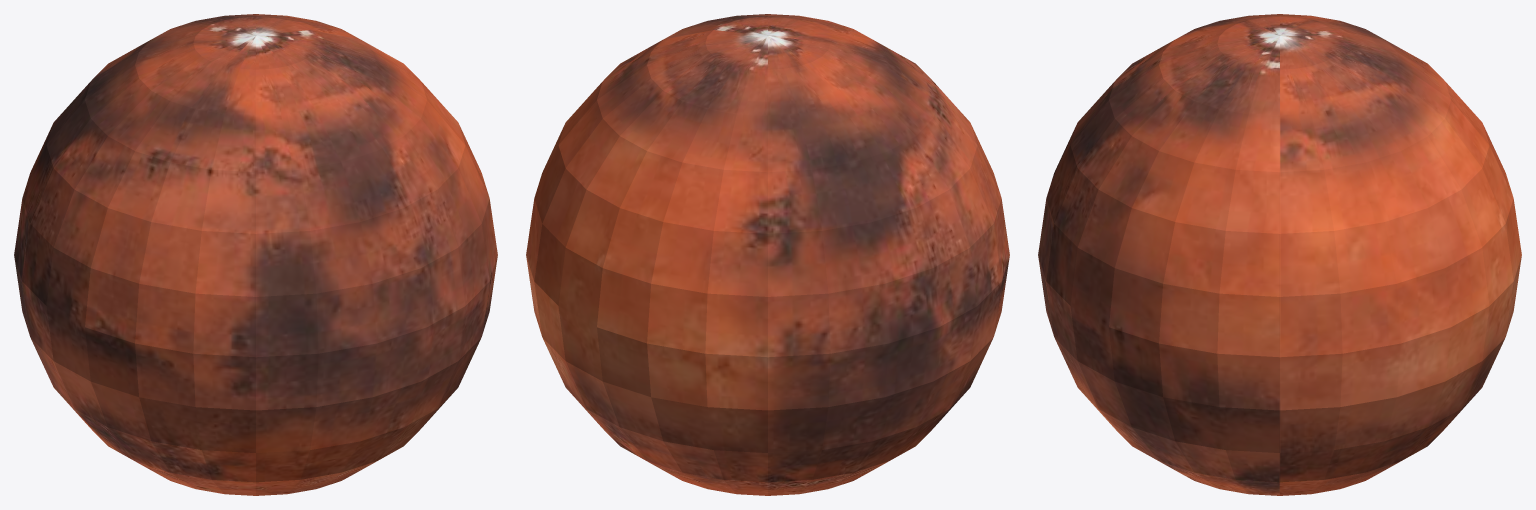
Rendered from Marte.obj.
3 renders of one model, left to right at view 1: azimuth 30°, elevation 25°; view 2: azimuth 150°, elevation 25°; view 3: azimuth 270°, elevation 25°, orthographic.
Parts seen in each view (by area): view 1: Marte; view 2: Marte; view 3: Marte.
Part boxes in pixels (x1,y1,x2,y2): Marte: [14, 14, 497, 495]; Marte: [526, 14, 1009, 495]; Marte: [1038, 14, 1521, 495].
Bounding box in the file's own units: 1.6 × 1.6 × 1.6.
1 material, 1 textured.
